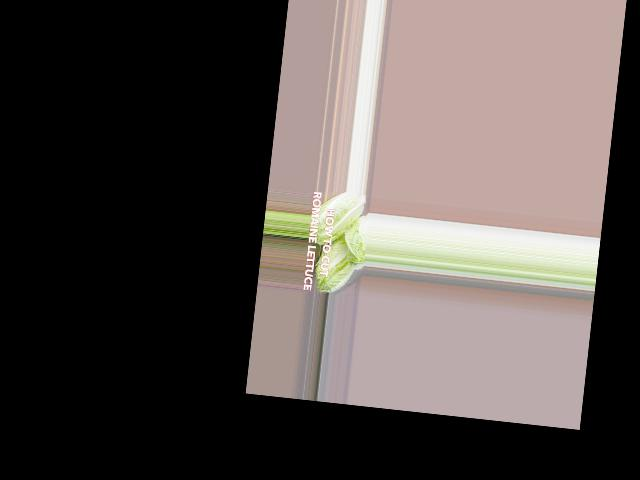lettuce: (308, 228, 362, 298)
